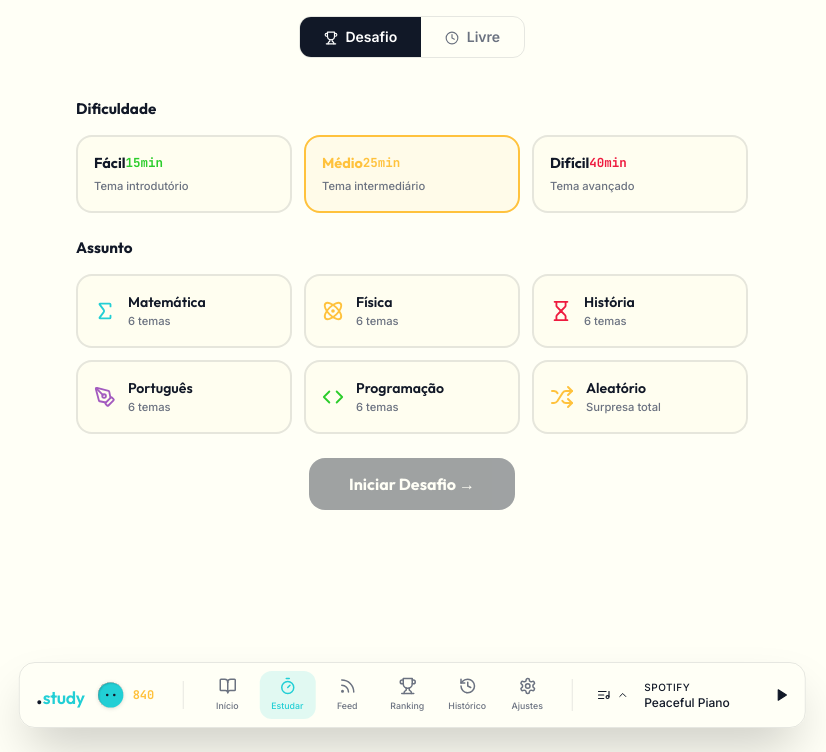
Estudar (desafio) › inicia desafio, conclui o ciclo e ganha +10 moedas
The image size is (826, 752).
Click the button "Fácil 15min Tema introdutório": (184, 174) [76,135,292,213]
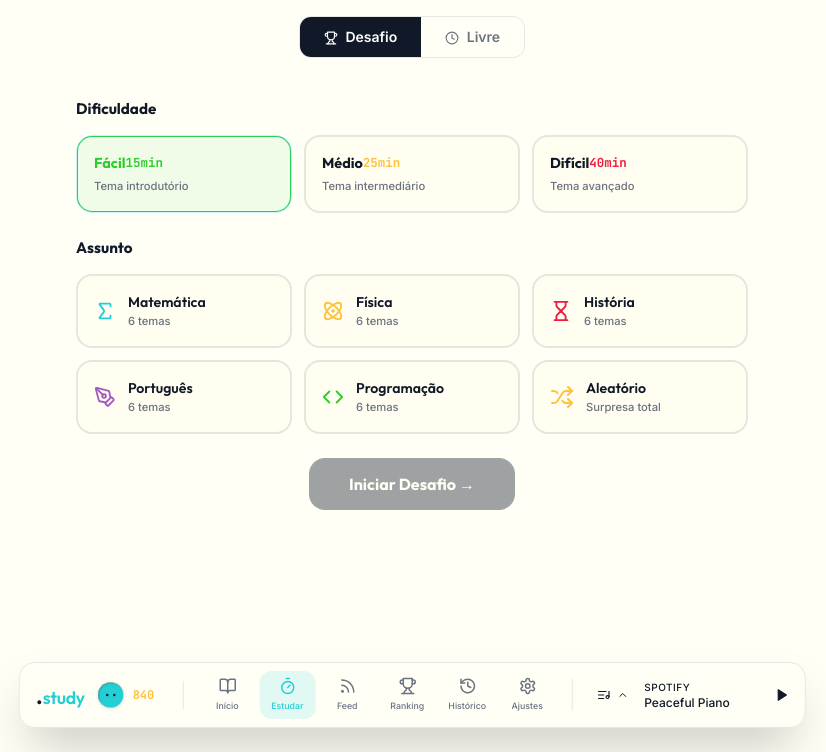
Click the button "Matemática 6 temas": (184, 311) [76,274,292,348]
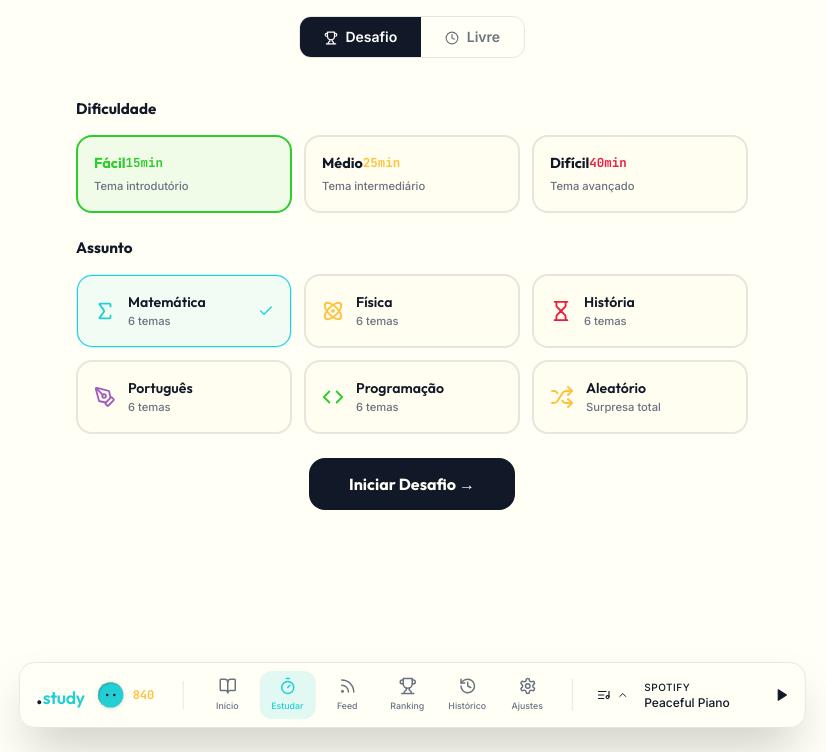
Click the button "Iniciar Desafio →": (412, 484) [309,458,515,510]
Wait 900500 ms
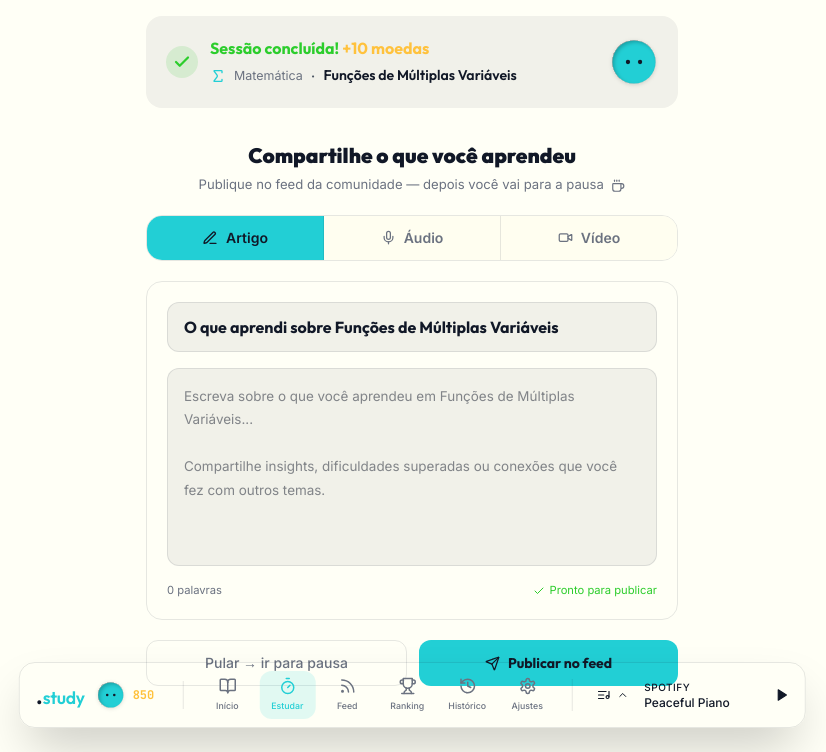
Expected: the text "+10 moedas" is shown, [342,38,429,58]
